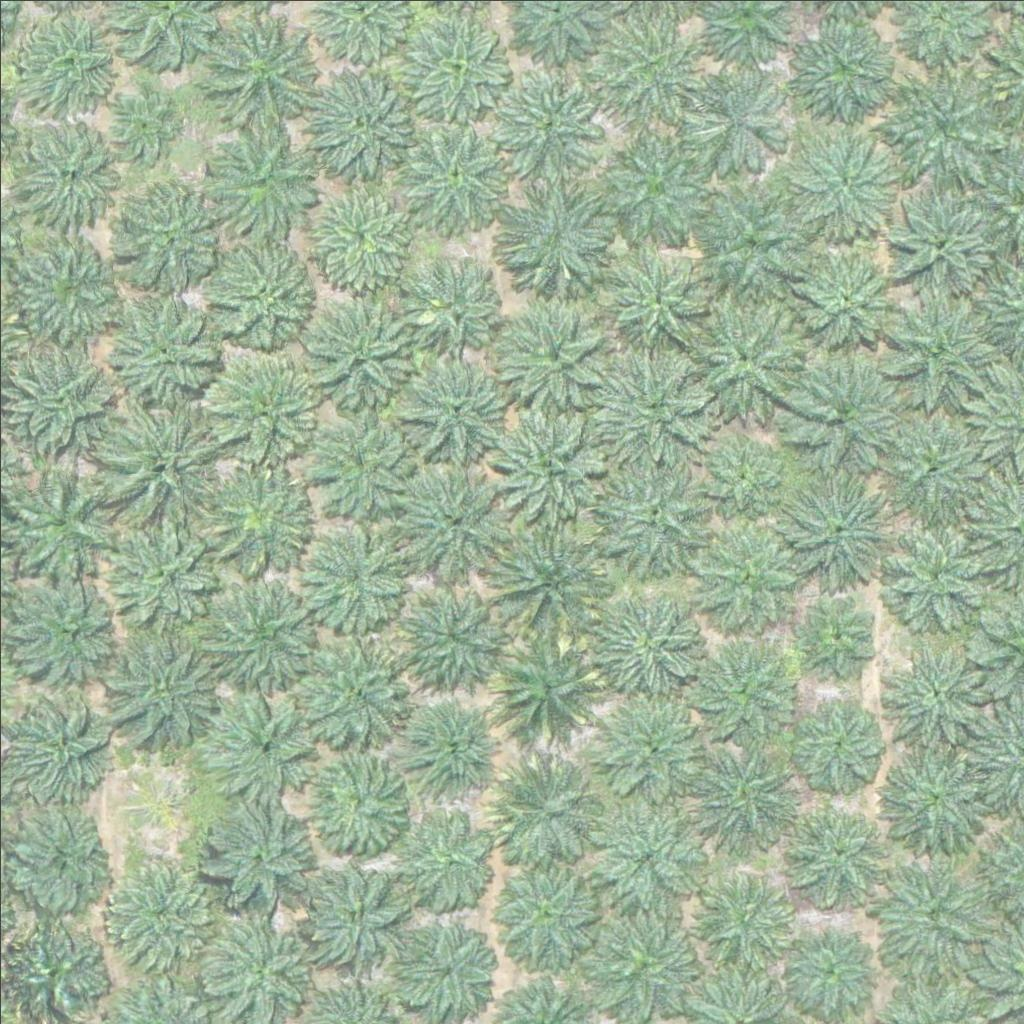Kelapa_Sawit: (675, 292, 800, 418), (589, 445, 714, 571), (596, 582, 709, 696), (685, 739, 798, 853), (878, 409, 991, 523), (881, 516, 994, 630), (399, 6, 512, 120), (7, 688, 120, 801), (205, 570, 318, 683), (300, 861, 413, 974), (299, 632, 412, 745), (882, 185, 995, 298), (885, 289, 998, 402), (786, 5, 899, 118), (595, 353, 708, 466), (501, 176, 614, 289), (498, 296, 611, 409), (493, 400, 606, 513), (396, 117, 509, 230), (102, 403, 215, 516), (878, 859, 990, 973), (787, 468, 899, 582), (785, 354, 897, 468), (697, 175, 809, 289), (602, 124, 714, 238), (488, 65, 600, 179), (3, 466, 115, 580), (13, 571, 125, 684), (104, 853, 216, 966), (111, 628, 223, 741), (205, 684, 317, 797), (203, 801, 315, 914), (203, 909, 315, 1022), (395, 573, 507, 686), (489, 854, 601, 967), (493, 754, 605, 867), (488, 629, 600, 742), (592, 799, 704, 912), (587, 901, 699, 1014), (881, 745, 993, 858), (886, 62, 998, 175), (598, 5, 710, 118), (493, 524, 605, 637), (398, 464, 510, 577), (402, 355, 514, 468), (310, 61, 422, 174), (304, 178, 416, 291), (303, 292, 415, 405), (205, 122, 317, 235), (210, 8, 322, 121), (2, 340, 114, 453), (11, 807, 111, 908), (306, 753, 406, 854), (401, 694, 501, 795), (398, 808, 498, 909), (394, 914, 494, 1015), (884, 643, 984, 744), (791, 132, 891, 233), (697, 519, 797, 620), (404, 263, 504, 364), (316, 420, 416, 521), (306, 529, 406, 630), (206, 471, 306, 572), (214, 354, 314, 455), (211, 245, 311, 346), (119, 187, 219, 288), (113, 300, 213, 401), (23, 239, 123, 340), (19, 125, 119, 226), (17, 15, 117, 116), (5, 918, 105, 1018), (600, 701, 700, 801), (694, 863, 794, 963), (692, 641, 792, 741), (798, 250, 898, 350), (691, 65, 791, 165), (605, 254, 705, 354), (117, 528, 217, 628), (793, 697, 881, 785), (791, 802, 879, 890), (784, 922, 871, 1010), (803, 594, 878, 670), (701, 435, 776, 511), (107, 86, 182, 161)
